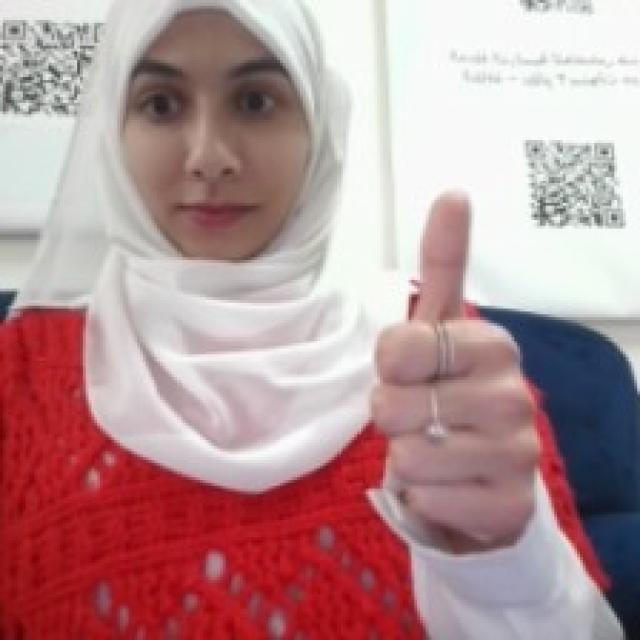fine: (365, 181, 545, 543)
